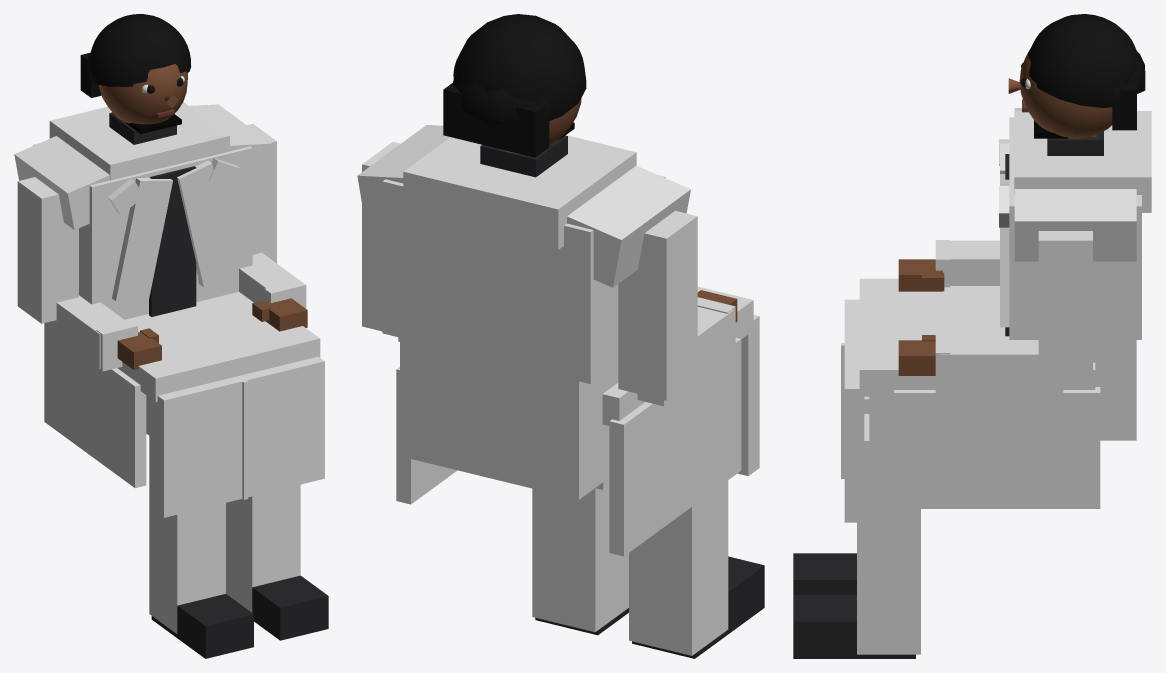
The model's file is NPC_overcoat_seated.fbx.
3 renders of one model, left to right at view 1: azimuth 30°, elevation 25°; view 2: azimuth 150°, elevation 25°; view 3: azimuth 270°, elevation 25°, orthographic. The views are drawn at different scales.
Parts seen in each view (by area): view 1: Body_Cloth_726256.001, Body_Cloth_5a4c42.001, Body_Cloth_3a3a40.001, Body_Mat_242427.001, Head_Hair.013, Body_Mat_26262a.001, Head_Skin.013, Body_Skin.013; view 2: Body_Cloth_726256.001, Body_Cloth_3a3a40.001, Body_Cloth_5a4c42.001, Head_Hair.013, Body_Mat_242427.001, Body_Mat_26262a.001, Head_Skin.013; view 3: Body_Cloth_726256.001, Body_Cloth_3a3a40.001, Body_Cloth_5a4c42.001, Head_Hair.013, Body_Mat_242427.001, Head_Skin.013, Body_Skin.013, Body_Mat_26262a.001.
Part boxes in pixels (x1=…): Body_Cloth_726256.001: x1=14, y1=104, x2=324, y2=517; Body_Cloth_5a4c42.001: x1=49, y1=102, x2=306, y2=499; Body_Cloth_3a3a40.001: x1=146, y1=395, x2=300, y2=633; Body_Mat_242427.001: x1=151, y1=575, x2=328, y2=658; Head_Hair.013: x1=80, y1=14, x2=191, y2=97; Body_Mat_26262a.001: x1=109, y1=112, x2=196, y2=316; Head_Skin.013: x1=99, y1=64, x2=187, y2=124; Body_Skin.013: x1=117, y1=298, x2=307, y2=369; Body_Cloth_726256.001: x1=357, y1=125, x2=759, y2=556; Body_Cloth_3a3a40.001: x1=532, y1=478, x2=728, y2=655; Body_Cloth_5a4c42.001: x1=403, y1=135, x2=735, y2=358; Head_Hair.013: x1=443, y1=14, x2=586, y2=157; Body_Mat_242427.001: x1=535, y1=556, x2=764, y2=658; Body_Mat_26262a.001: x1=480, y1=135, x2=567, y2=177; Head_Skin.013: x1=501, y1=98, x2=581, y2=153; Body_Cloth_726256.001: x1=844, y1=108, x2=1141, y2=522; Body_Cloth_3a3a40.001: x1=857, y1=396, x2=920, y2=654; Body_Cloth_5a4c42.001: x1=841, y1=111, x2=1151, y2=478; Head_Hair.013: x1=1027, y1=14, x2=1145, y2=130; Body_Mat_242427.001: x1=793, y1=553, x2=915, y2=658; Head_Skin.013: x1=1008, y1=50, x2=1112, y2=138; Body_Skin.013: x1=898, y1=135, x2=1096, y2=375; Body_Mat_26262a.001: x1=1005, y1=131, x2=1103, y2=336.
Bounding box in the file's own units: 0.6298 × 1.36 × 0.73.
